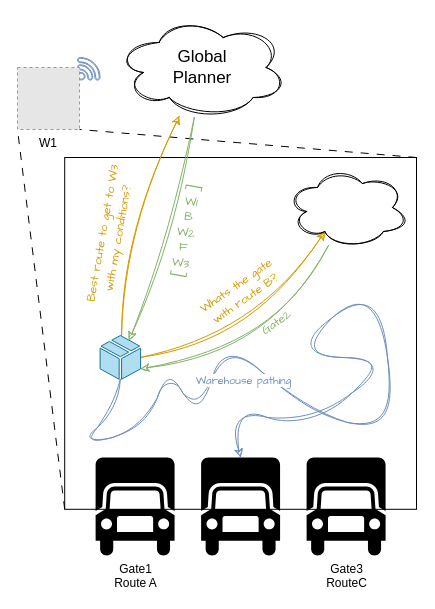
This 435x609 diagram has some shape labels left out. Grey dashed boxes stand in for pictures. Each missing label, with the centre of its shape:
Gate2 Route B: pixel 240 506
Local Planner: pixel 347 207
